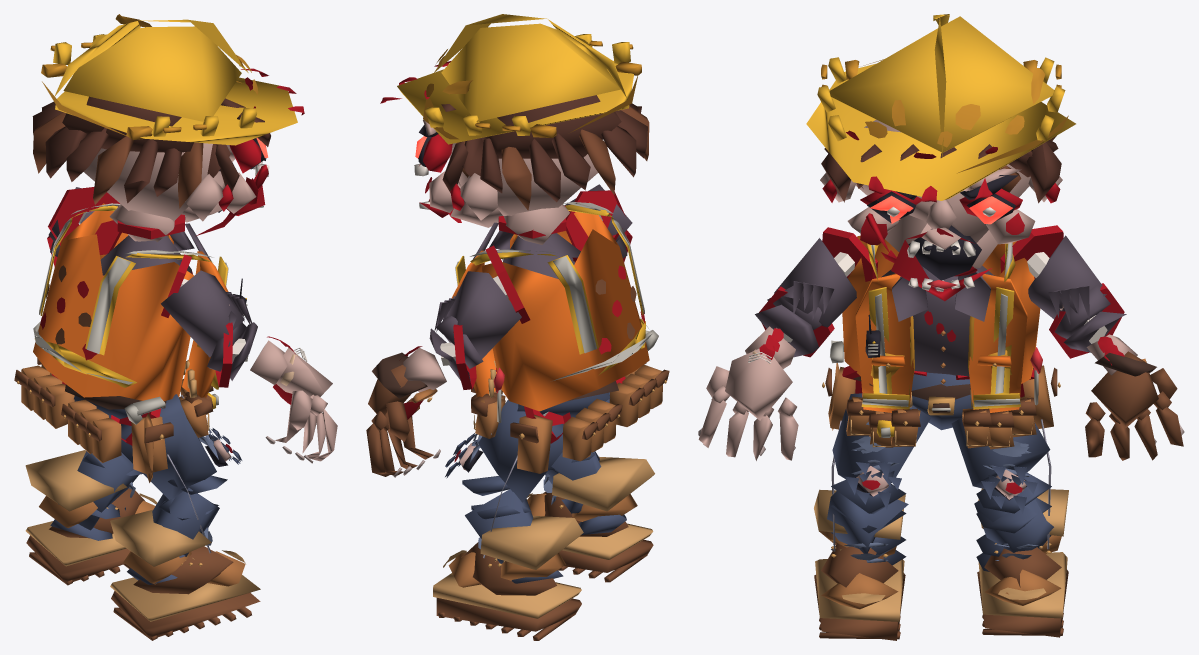
File: inf.construction-worker.lod2.glb
3 views of the same model, side by side, from view 1: azimuth 30°, elevation 25°; view 2: azimuth 150°, elevation 25°; view 3: azimuth 270°, elevation 25° (orthographic). The views are drawn at different scales.
Parts seen in each view (by area): view 1: head, torso, footR, hip, footL, legR, armR, handR, shinR, shinL, foreArmR, stump_armL (+2 smaller); view 2: head, torso, footL, hip, footR, handL, armL, legL, shinL, foreArmL, shinR, stump_armR (+4 smaller); view 3: head, torso, hip, footR, footL, handL, handR, legL, shinL, legR, shinR, armR (+6 smaller).
Part boxes in pixels (x1,y1,x2,y2): head: (32, 14, 304, 242); torso: (33, 203, 247, 401); footR: (110, 510, 260, 640); hip: (14, 358, 218, 482); footL: (25, 450, 157, 585); legR: (121, 394, 242, 553); armR: (161, 270, 251, 357); handR: (265, 347, 337, 463); shinR: (127, 475, 227, 584); shinL: (50, 451, 142, 540); foreArmR: (207, 311, 307, 385); stump_armL: (48, 187, 121, 254); head: (380, 14, 649, 244); torso: (452, 202, 651, 411); footL: (433, 515, 583, 640); hip: (471, 330, 669, 473); footR: (527, 456, 654, 582); handL: (366, 352, 440, 477); armL: (434, 271, 521, 358); legL: (445, 399, 563, 558); shinL: (462, 476, 563, 583); foreArmL: (399, 316, 483, 392); shinR: (543, 451, 626, 534); stump_armR: (566, 190, 625, 250); head: (806, 14, 1075, 301); torso: (842, 235, 1040, 412); hip: (822, 340, 1060, 449); footR: (814, 489, 905, 640); footL: (977, 488, 1068, 637); handL: (1085, 351, 1184, 460); handR: (698, 348, 798, 460); legL: (951, 418, 1051, 549); shinL: (974, 472, 1053, 571); legR: (831, 393, 931, 551); shinR: (827, 479, 908, 565); armR: (774, 238, 856, 327).
Bounding box in the file's own units: 0.801 × 1.8 × 1.34.
